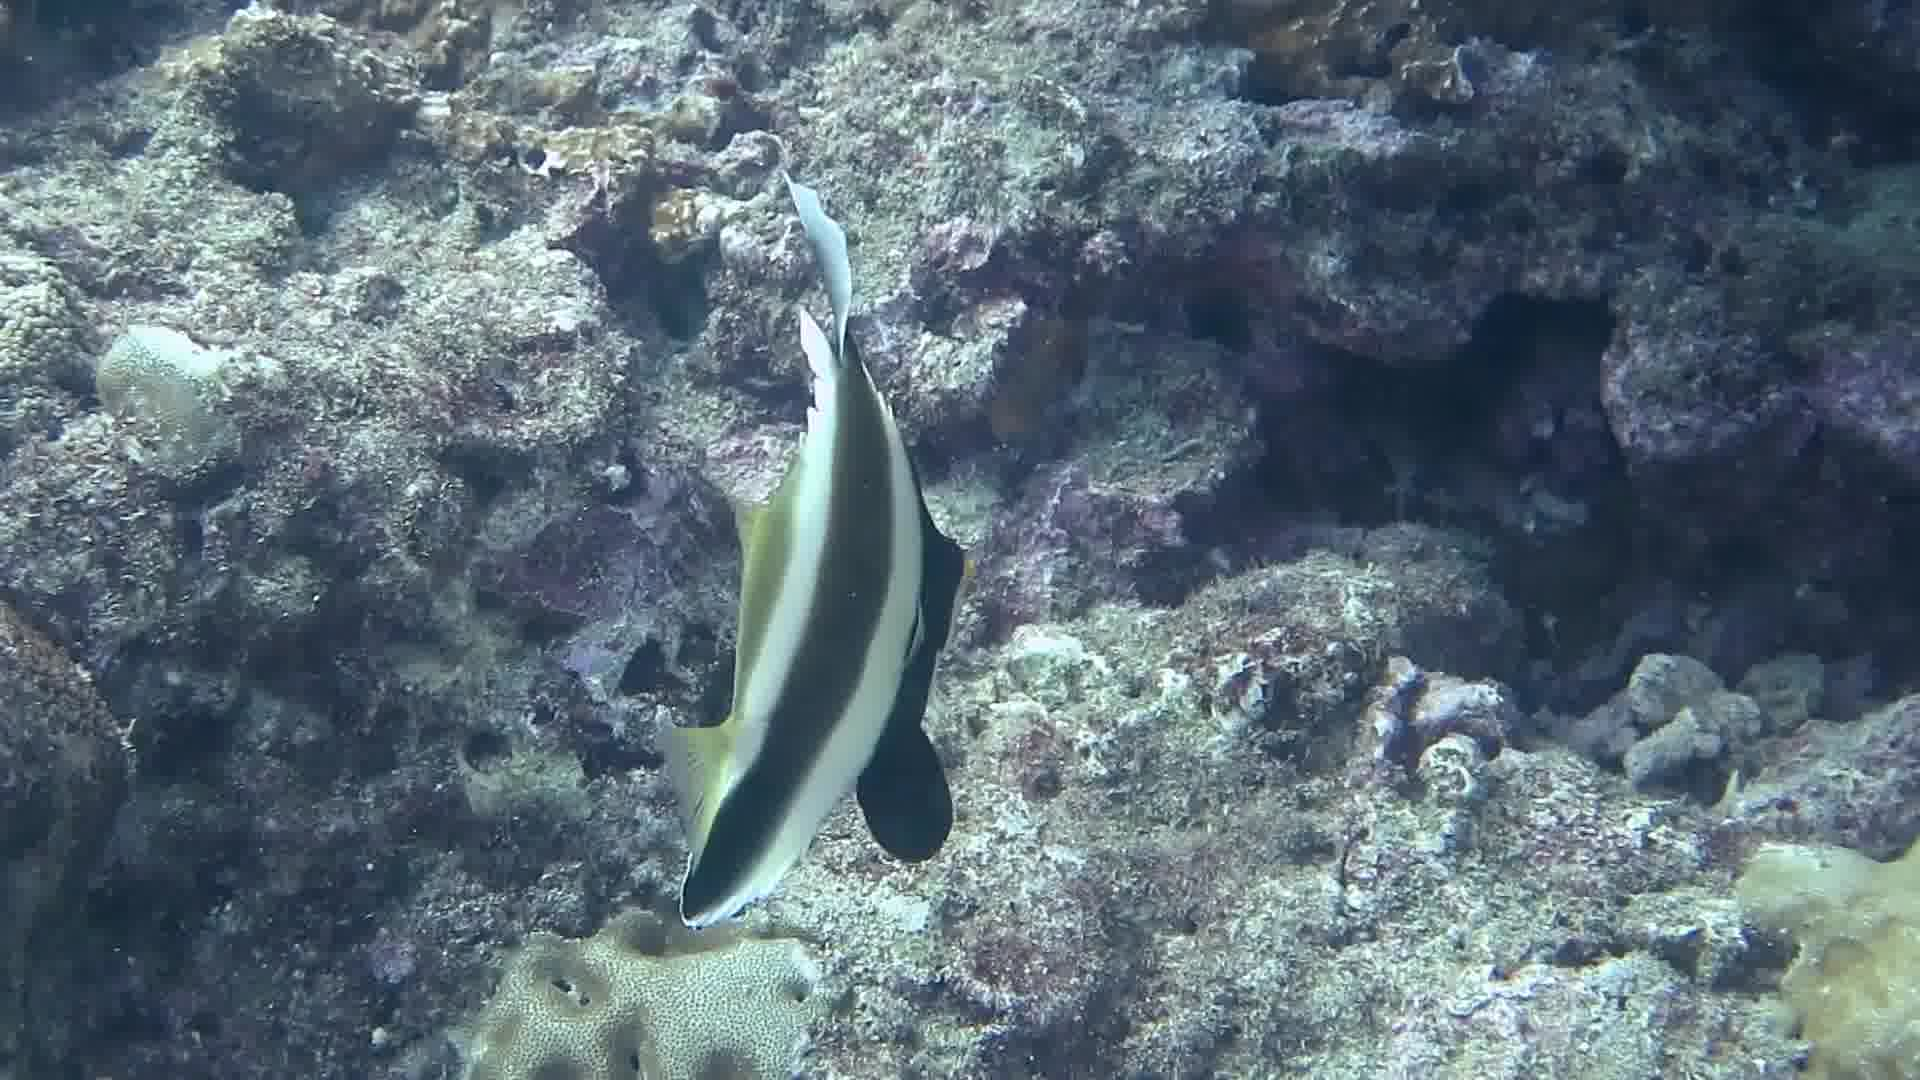Heniochus chrysostomus: (415, 185, 1216, 928)
